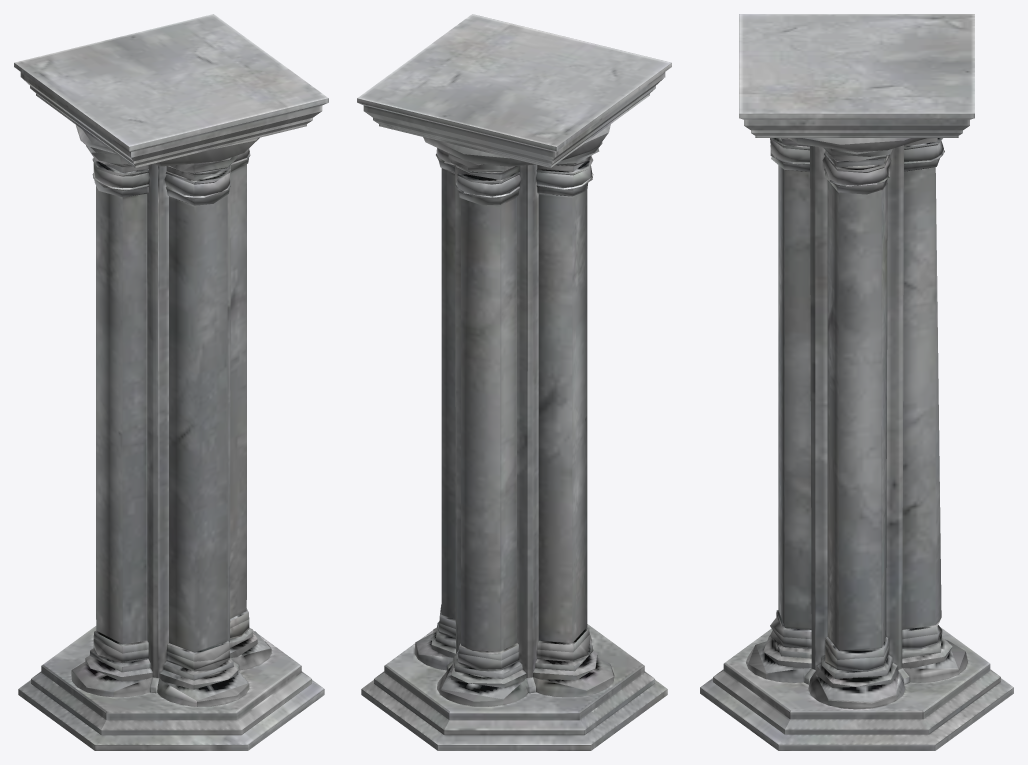
File: PRP_Column_lod.glb
The picture shows the model from 3 angles, left to right: view 1: azimuth 30°, elevation 25°; view 2: azimuth 150°, elevation 25°; view 3: azimuth 270°, elevation 25°; orthographic projection. The views are drawn at different scales.
Parts seen in each view (by area): view 1: Object_4; view 2: Object_4; view 3: Object_4.
Part boxes in pixels (left/top/right/bottom): Object_4: left=14, top=14, right=328, bottom=750; Object_4: left=357, top=14, right=671, bottom=750; Object_4: left=700, top=14, right=1013, bottom=750.
Size of the model in its own units: 2.51 by 6.41 by 2.89.
1 material, 1 textured.
